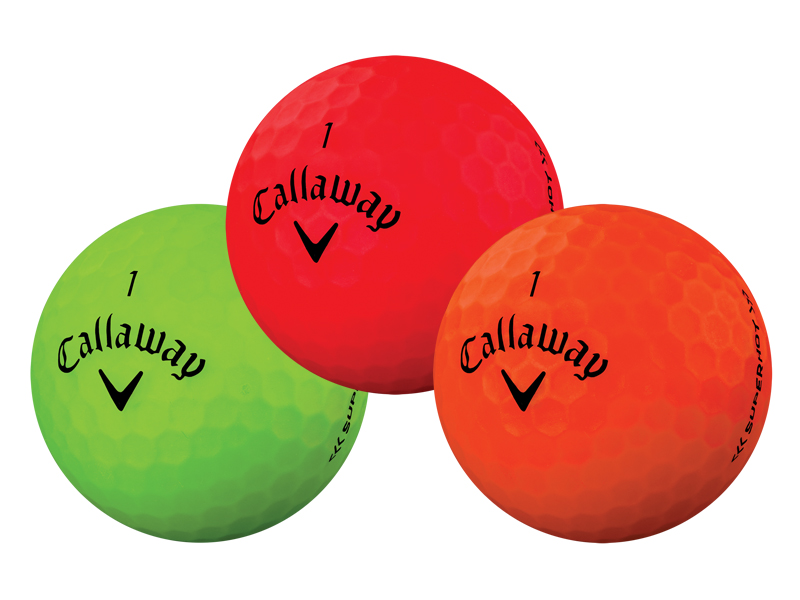red ball: (224, 56, 571, 397)
